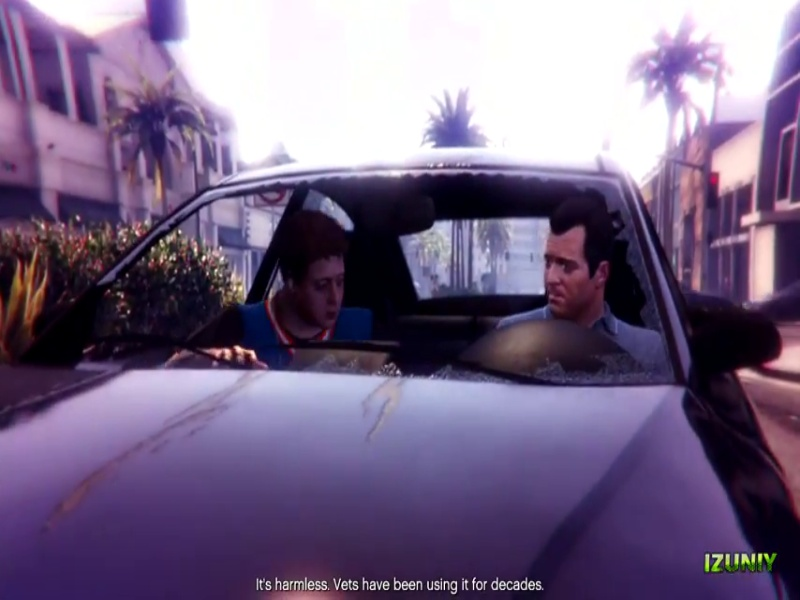human: (256, 211, 358, 347)
